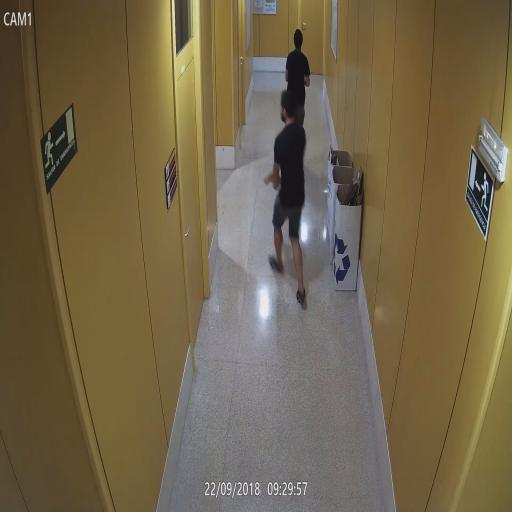Handgun: (263, 166, 282, 191)
